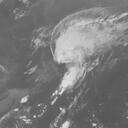cyclone: (50, 25, 92, 65)
